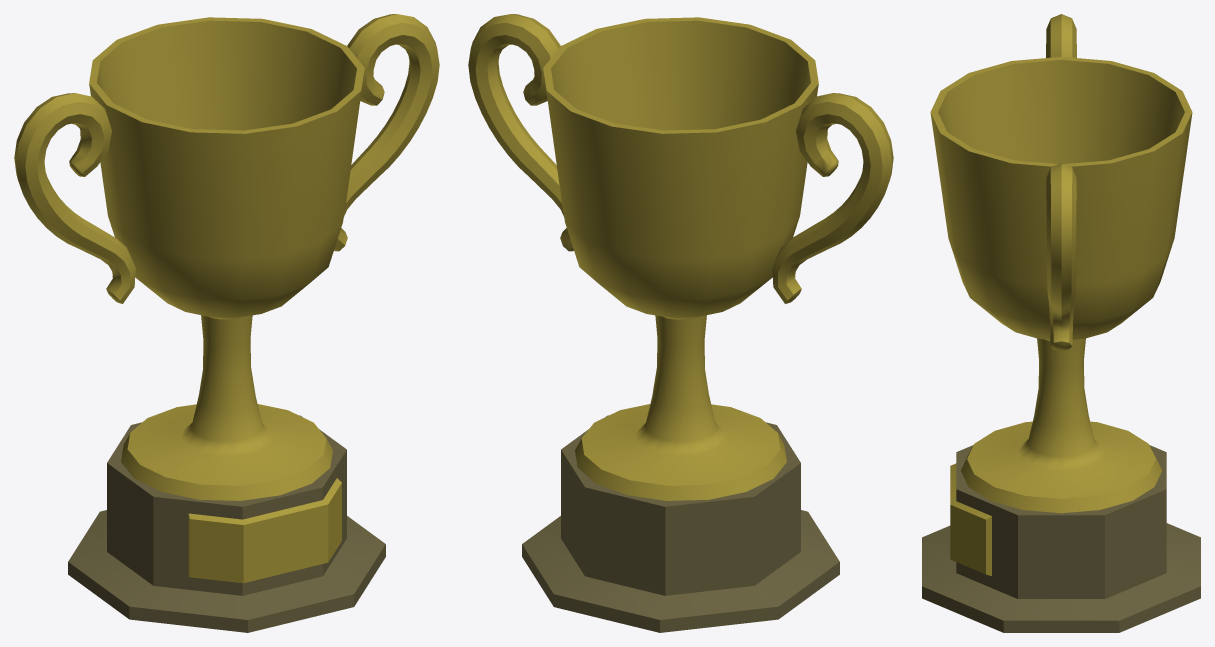
Rendered from SM_Trophy_Gold.fbx.
3 renders of one model, left to right at view 1: azimuth 30°, elevation 25°; view 2: azimuth 150°, elevation 25°; view 3: azimuth 270°, elevation 25°, orthographic. The views are drawn at different scales.
Parts seen in each view (by area): view 1: SM_Trophy_Gold; view 2: SM_Trophy_Gold; view 3: SM_Trophy_Gold.
Boxes of the visible parts, x1,y1,x2,y2 form: SM_Trophy_Gold: [14, 14, 439, 632]; SM_Trophy_Gold: [468, 14, 893, 632]; SM_Trophy_Gold: [922, 14, 1200, 632].
Bounding box in the file's own units: 55.93 × 64.6 × 33.97.
